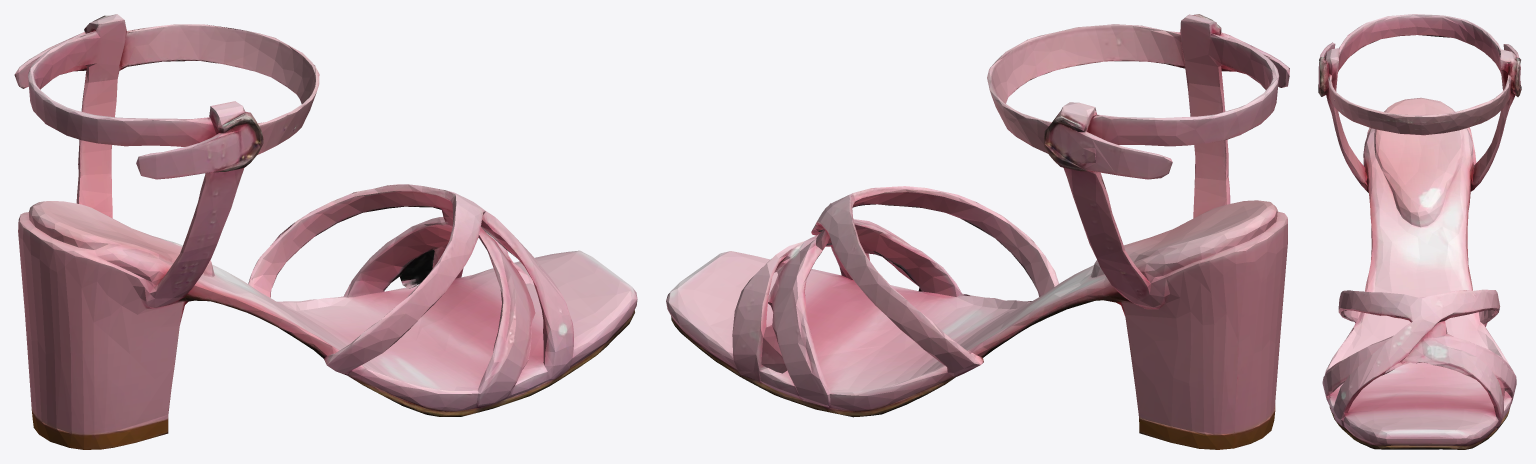
3 views of the same model, side by side, from view 1: azimuth 30°, elevation 25°; view 2: azimuth 150°, elevation 25°; view 3: azimuth 270°, elevation 25° (orthographic). The views are drawn at different scales.
Visible parts, largest first — view 1: world; view 2: world; view 3: world.
Boxes of the visible parts, left/top/right/bottom form: world: left=14, top=14, right=637, bottom=449; world: left=666, top=14, right=1289, bottom=449; world: left=1318, top=14, right=1521, bottom=449.
Bounding box in the file's own units: 0.9994 × 0.6048 × 0.4229.
Materials: 1 (1 with a texture image).
